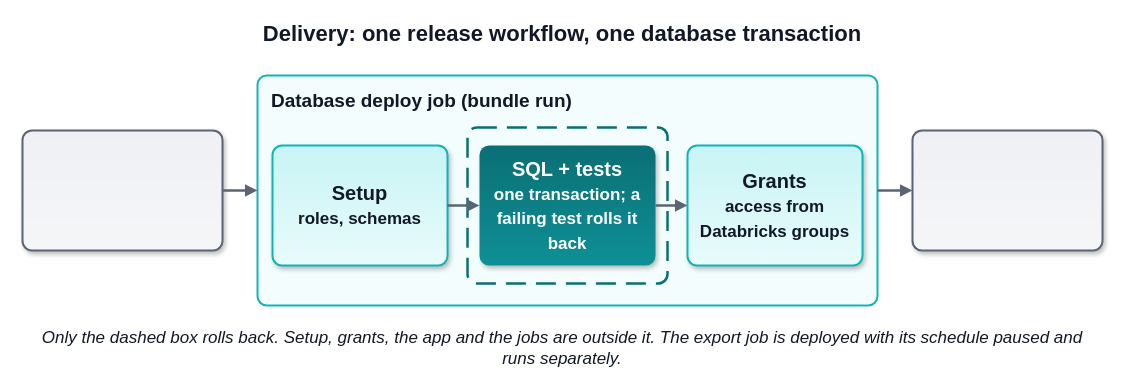
Some shapes in this 1126 by 390 pixel diagram are drawn without their labels. The centre of each missing label's shape, as x and y in pixels:
"bundle deploy app, Lakebase project, jobs" belongs at point (123, 191).
"Start app bundle run" belongs at point (1008, 191).
